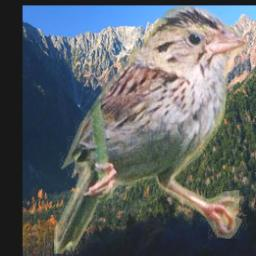Sparrow: (53, 5, 246, 254)
